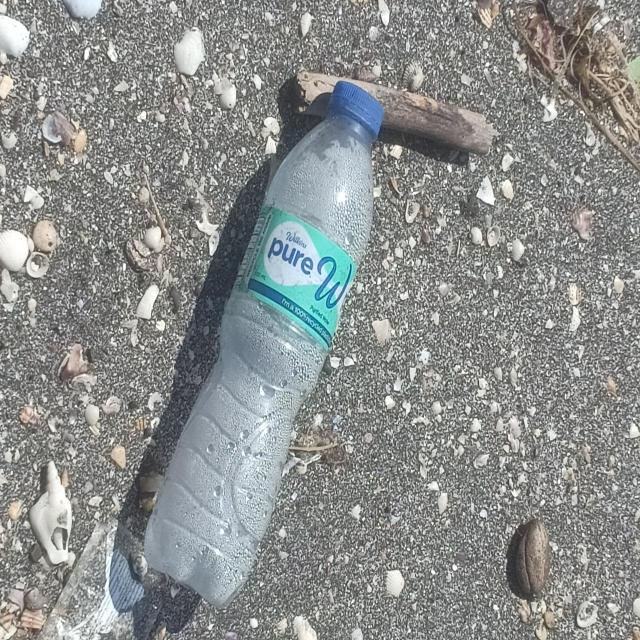plastic_waste: (134, 94, 382, 620)
